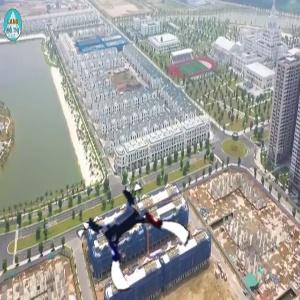drone: (87, 188, 184, 285)
